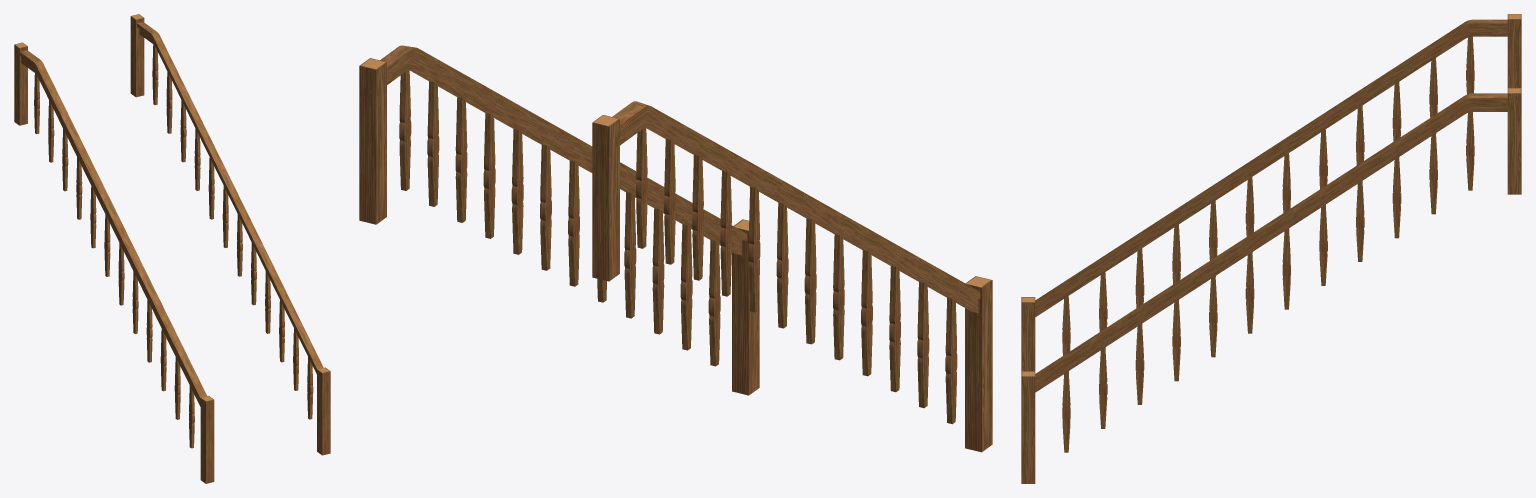
Rendered from Stair_Interior_Rails.gltf.
3 views of the same model, side by side, from view 1: azimuth 30°, elevation 25°; view 2: azimuth 150°, elevation 25°; view 3: azimuth 270°, elevation 25° (orthographic). The views are drawn at different scales.
Visible parts, largest first — view 1: Stair_Interior_Rails; view 2: Stair_Interior_Rails; view 3: Stair_Interior_Rails.
Part boxes in pixels (x1,y1,x2,y2): Stair_Interior_Rails: (14,14,330,483); Stair_Interior_Rails: (359,45,992,452); Stair_Interior_Rails: (1021,14,1521,483).
Size of the model in its own units: 1.72 by 3.93 by 4.56.
1 material, 1 textured.
